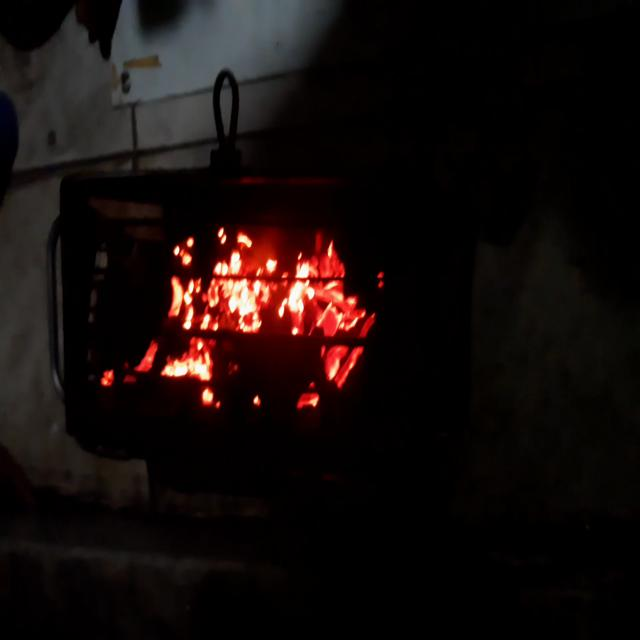Fire: (94, 215, 392, 416)
